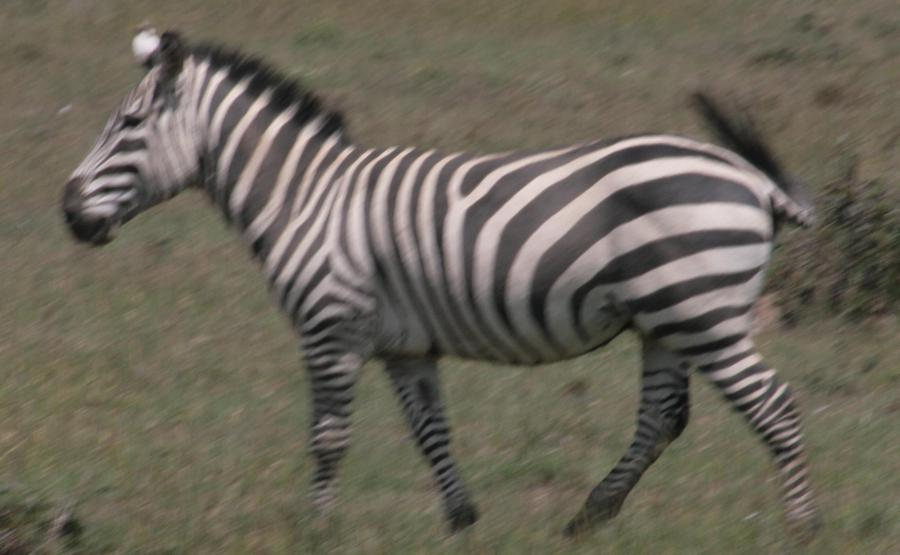zebra_plains: (236, 107, 793, 374)
